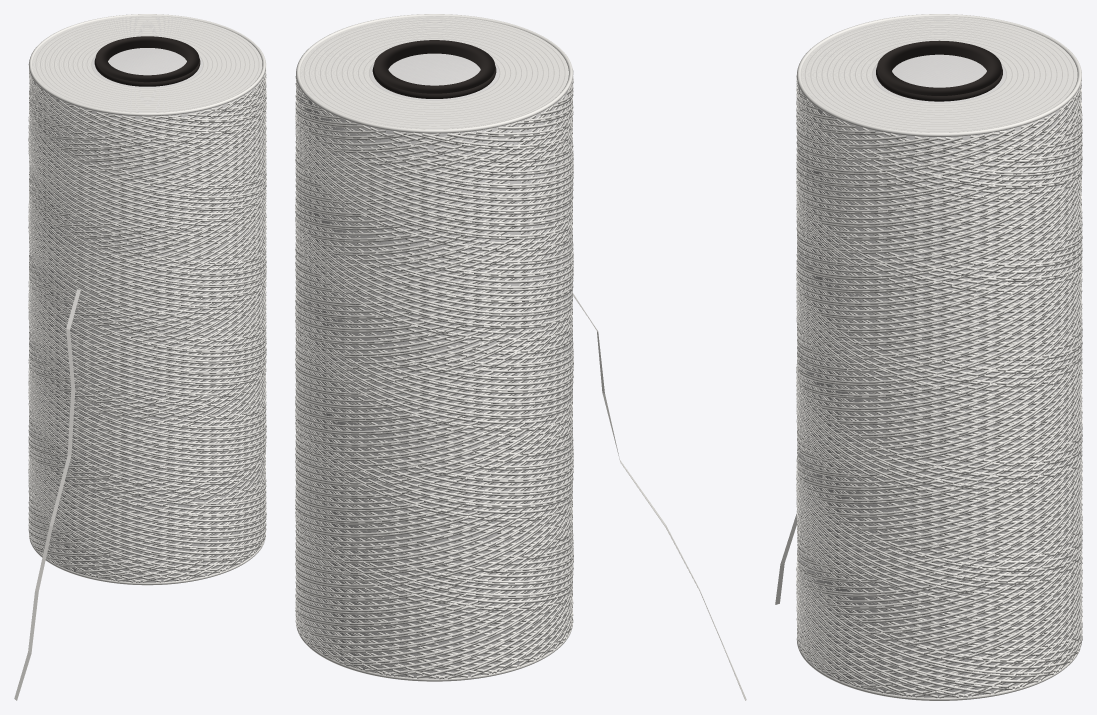
File: product-30-woven-thread.glb
3 renders of one model, left to right at view 1: azimuth 30°, elevation 25°; view 2: azimuth 150°, elevation 25°; view 3: azimuth 270°, elevation 25°, orthographic. The views are drawn at different scales.
Visible parts, largest first — view 1: top wound rolled edge, dense non-woven wound thread field, top concentric flat tape ends, dark hollow core through-bore; view 2: top wound rolled edge, dense non-woven wound thread field, top concentric flat tape ends, dark hollow core through-bore; view 3: top wound rolled edge, dense non-woven wound thread field, top concentric flat tape ends, dark hollow core through-bore.
Part boxes in pixels (x1,y1,x2,y2): top wound rolled edge: [14, 14, 266, 700]; dense non-woven wound thread field: [29, 17, 265, 582]; top concentric flat tape ends: [35, 17, 259, 111]; dark hollow core through-bore: [94, 36, 200, 86]; top wound rolled edge: [295, 14, 746, 700]; dense non-woven wound thread field: [296, 17, 572, 678]; top concentric flat tape ends: [303, 18, 565, 128]; dark hollow core through-bore: [372, 40, 496, 98]; top wound rolled edge: [775, 14, 1082, 700]; dense non-woven wound thread field: [797, 17, 1081, 697]; top concentric flat tape ends: [804, 18, 1073, 131]; dark hollow core through-bore: [876, 40, 1002, 101].
Bounding box in the file's own units: 169 × 290 × 123.
5 materials, 1 textured.
